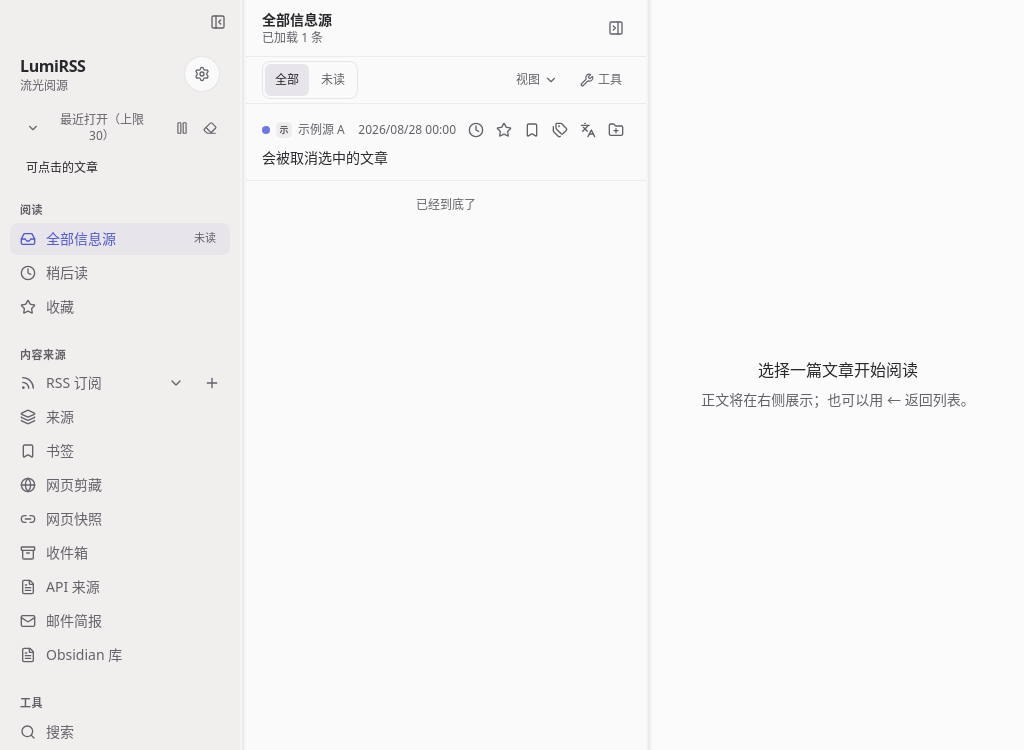
it: Test K — Entry selection › 切换 view 后 selection 清空，右栏回到占位文案
The image size is (1024, 750).
Click the button "会被取消选中的文章" at coordinates (325, 158), box [262, 148, 630, 168]
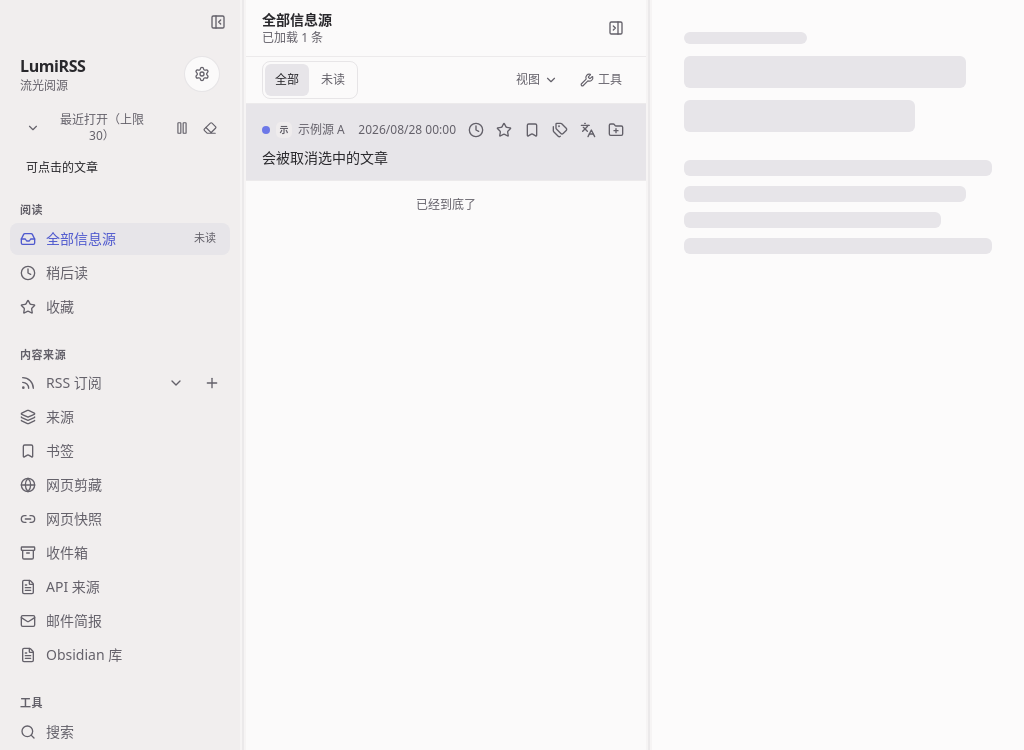
Check: the text "选择一篇文章开始阅读" is gone
Click the button "未读" below "阅读" at coordinates (205, 238), box [186, 226, 224, 250]
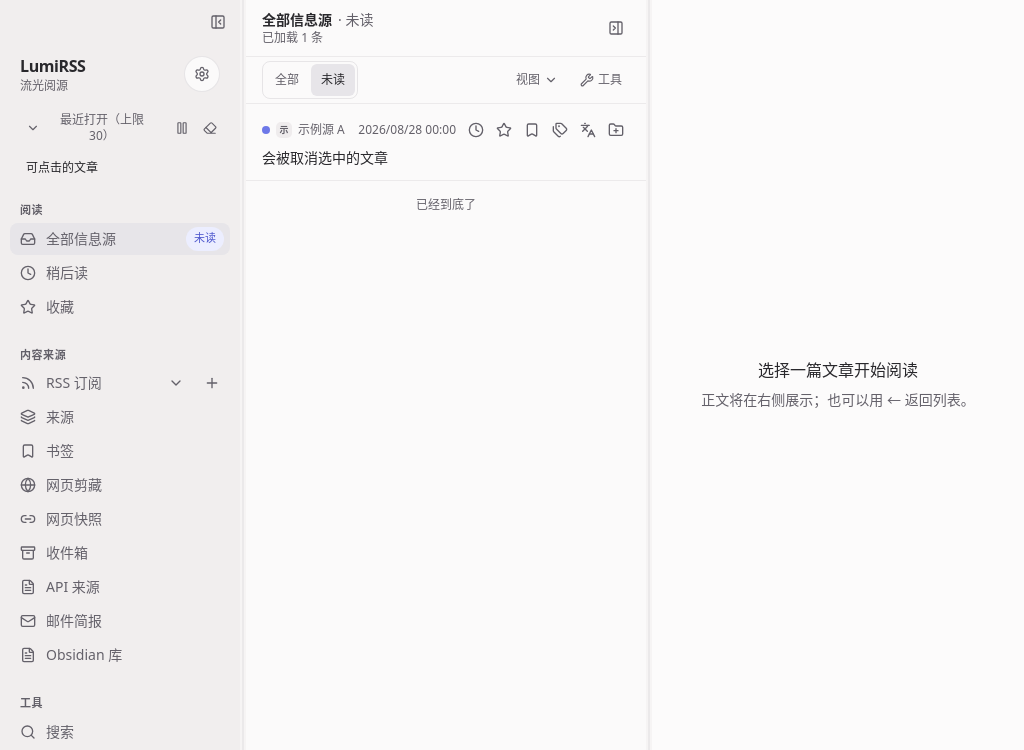
Check: the text "选择一篇文章开始阅读" is shown, box [758, 359, 918, 381]
